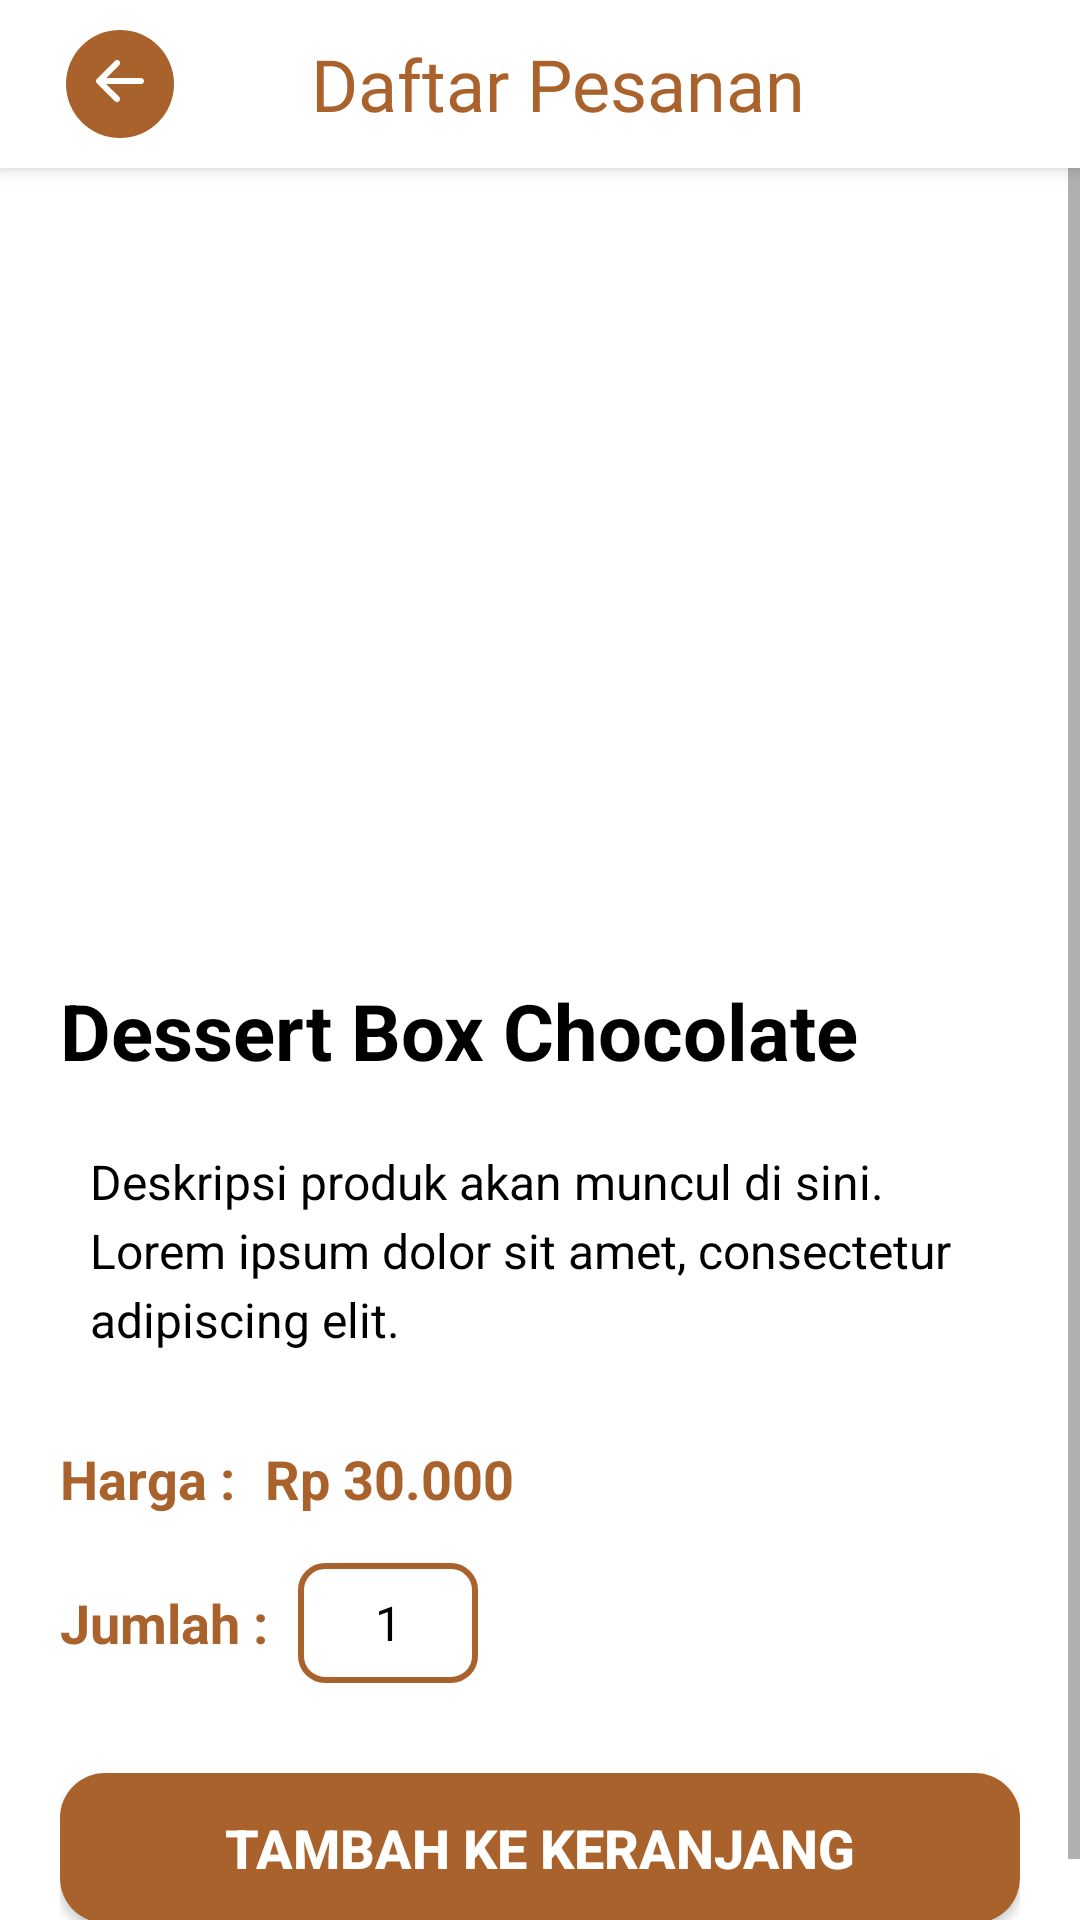

Icon click points for this 1080×1920 phone screenshot, format [x,y]:
Kembali: [120,84]
